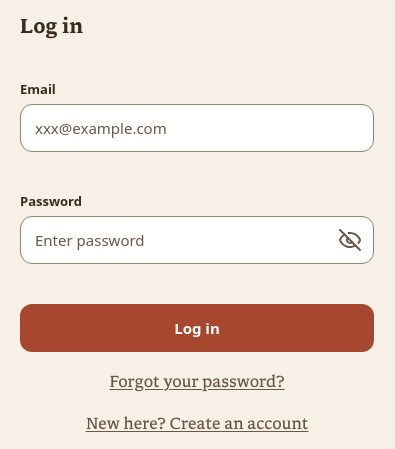
Test case: LogIn › disables the form while signing in
This screenshot has width=395, height=449.
Type "ana@example.com" into the field labelled "Email" at coordinates (197, 128), box [20,104,374,152]
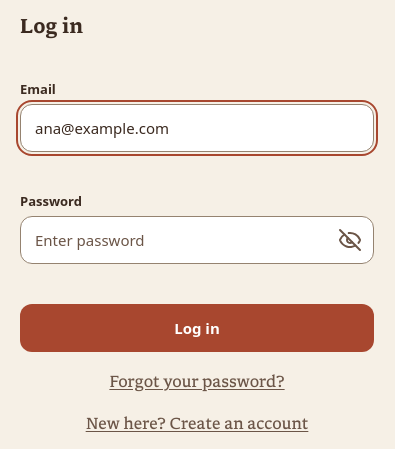
Type "correct-horse-1" into the password field labelled "Password" at coordinates (197, 240), box [20,216,374,264]
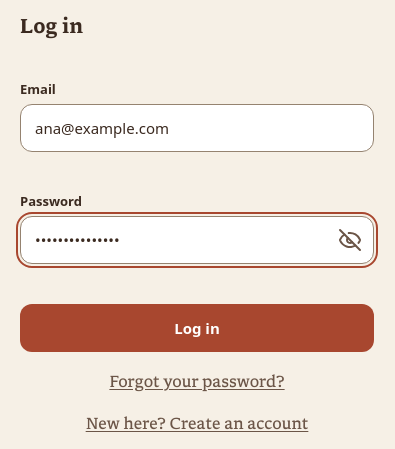
Click the button "Log in" at coordinates (197, 328), box [20,304,374,352]
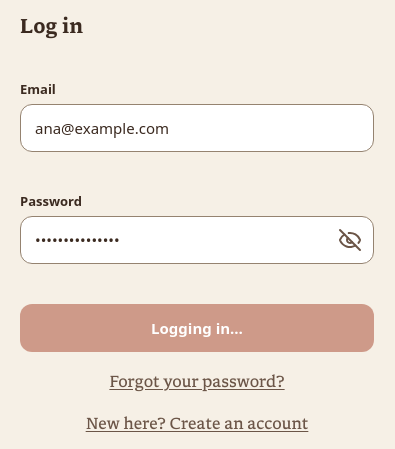
Expected: the field labelled "Email" is disabled, [20,104,374,152]
Now the button "Logging in…" is disabled, box [20,304,374,352]
